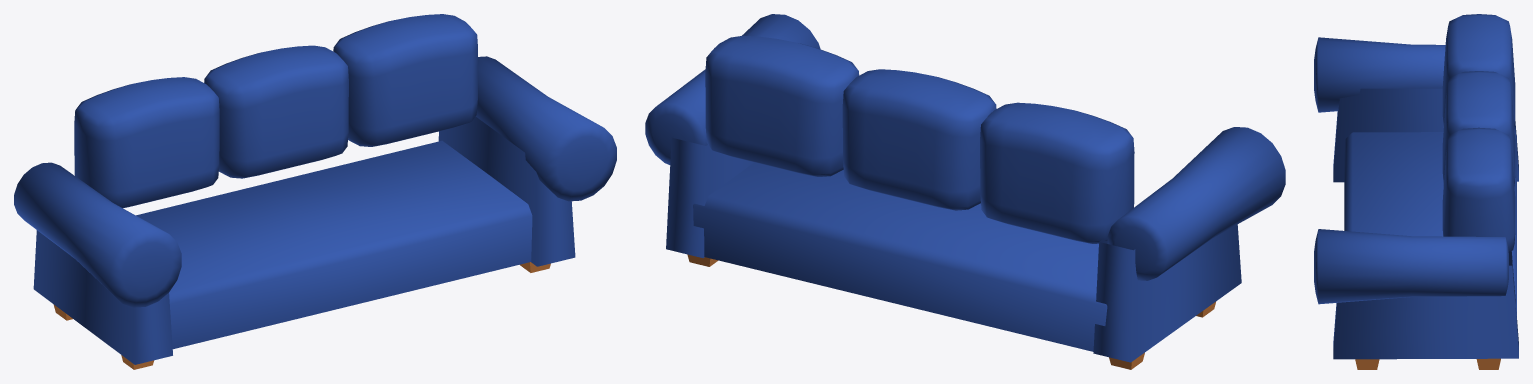
The model's file is Soffa.fbx.
3 views of the same model, side by side, from view 1: azimuth 30°, elevation 25°; view 2: azimuth 150°, elevation 25°; view 3: azimuth 270°, elevation 25° (orthographic). The views are drawn at different scales.
Parts seen in each view (by area): view 1: Cube.009; view 2: Cube.009; view 3: Cube.009.
Boxes of the visible parts, <box> form: Cube.009: <box>14,14,616,369</box>; Cube.009: <box>645,14,1285,369</box>; Cube.009: <box>1314,14,1518,369</box>.
Size of the model in its own units: 257 by 102 by 99.82.
